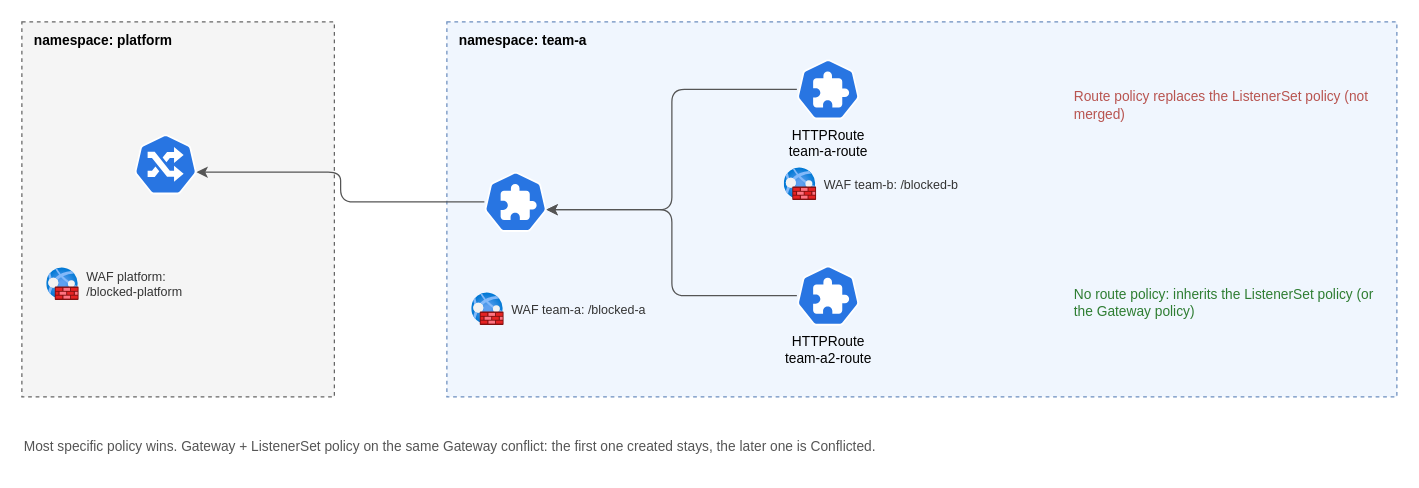
Some shapes in this 1419 by 488 pixel diagram are drawn without their labels. The centre of each missing label's shape, as x and y in pixels:
Gateway shared-public: (x=165, y=163)
ListenerSet team-a-listeners: (x=515, y=201)
